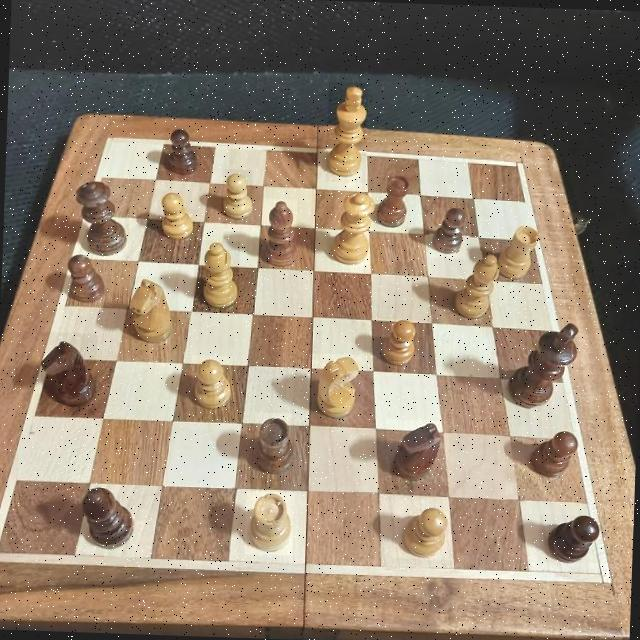black-camel: (78, 484, 134, 548), (260, 198, 297, 269)
black-elephant: (252, 412, 292, 480), (373, 172, 416, 230)
black-horse: (40, 332, 98, 416), (384, 418, 449, 484)
black-pawn: (538, 514, 608, 563), (524, 427, 582, 475), (62, 253, 106, 300), (428, 208, 469, 258), (163, 128, 202, 178)
white-camel: (192, 240, 240, 315), (453, 250, 499, 319)
white-elephant: (243, 490, 294, 556), (497, 224, 539, 276)
white-horse: (306, 352, 364, 423), (124, 276, 178, 340)
white-king: (324, 82, 368, 183)
white-pawn: (393, 496, 452, 560), (372, 318, 422, 368), (190, 354, 233, 408), (220, 169, 252, 224), (157, 190, 192, 238)
white-queen: (332, 190, 372, 264)
